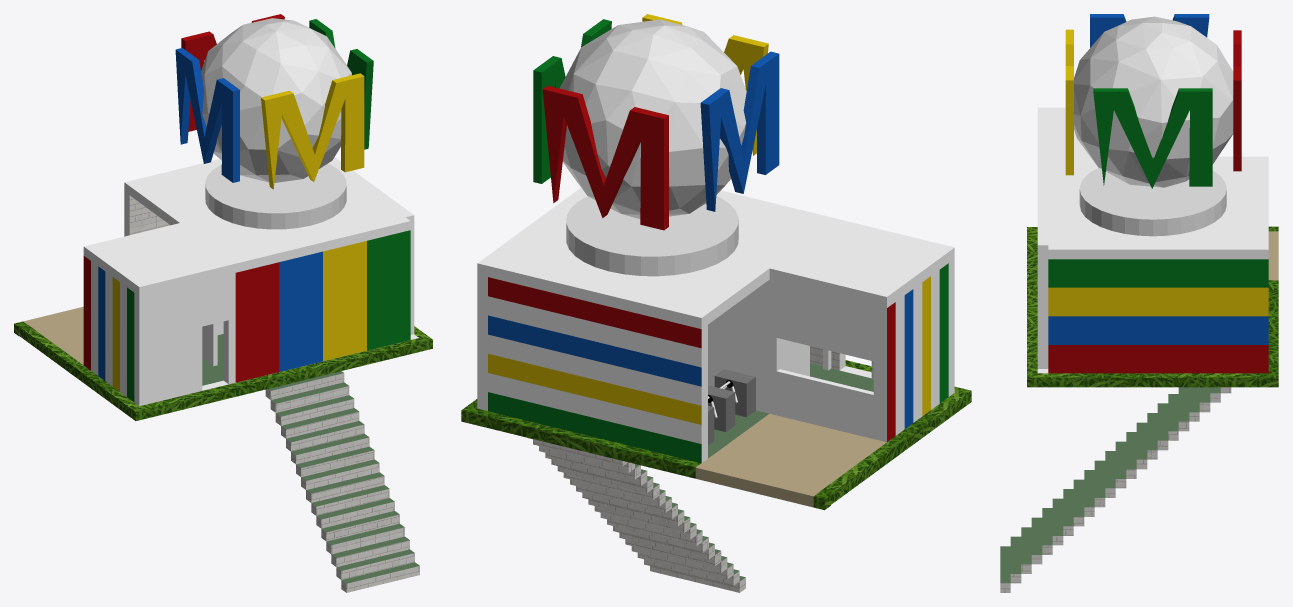
Rendered from Metro Entrance.glb.
3 views of the same model, side by side, from view 1: azimuth 30°, elevation 25°; view 2: azimuth 150°, elevation 25°; view 3: azimuth 270°, elevation 25° (orthographic). The views are drawn at different scales.
Visible parts, largest first — view 1: Ext, Sign, Stairs, Ground, Air Outlet, Int Wall; view 2: Ext, Sign, Int Wall, Ground, Stairs, Air Outlet, Turnstile; view 3: Ext, Sign, Stairs, Air Outlet, Ground.
Part boxes in pixels (x1,y1,x2,y2): Ext: (83, 157, 418, 406); Sign: (175, 14, 373, 189); Stairs: (265, 371, 419, 592); Ground: (14, 306, 432, 420); Air Outlet: (205, 163, 346, 229); Int Wall: (202, 321, 223, 366); Ext: (477, 187, 954, 463); Sign: (533, 14, 779, 230); Int Wall: (708, 279, 876, 439); Ground: (461, 360, 971, 510); Stairs: (527, 437, 745, 592); Air Outlet: (566, 196, 738, 276); Turnstile: (708, 369, 755, 445); Ext: (1037, 107, 1268, 373); Sign: (1065, 14, 1241, 188); Stairs: (1000, 387, 1231, 592); Air Outlet: (1079, 168, 1226, 236); Ground: (1027, 226, 1278, 387).
Bounding box in the file's own units: 10.38 × 17.04 × 8.08.
Materials: 12 (2 with a texture image).
